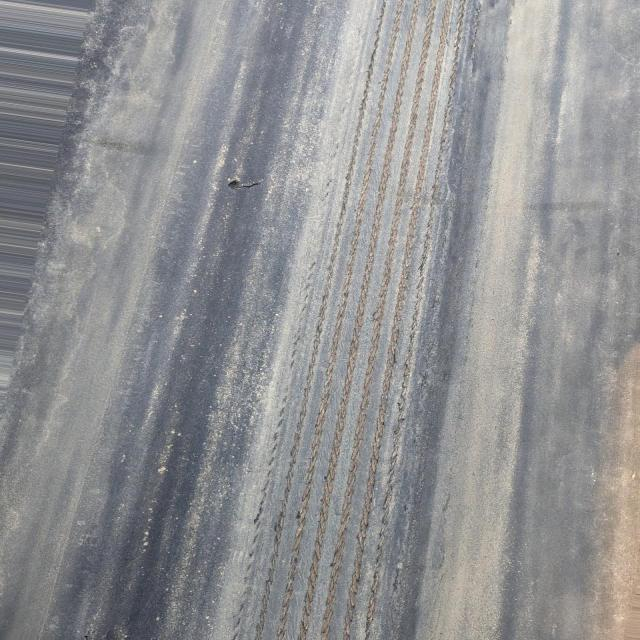impact damage: (229, 5, 498, 639)
